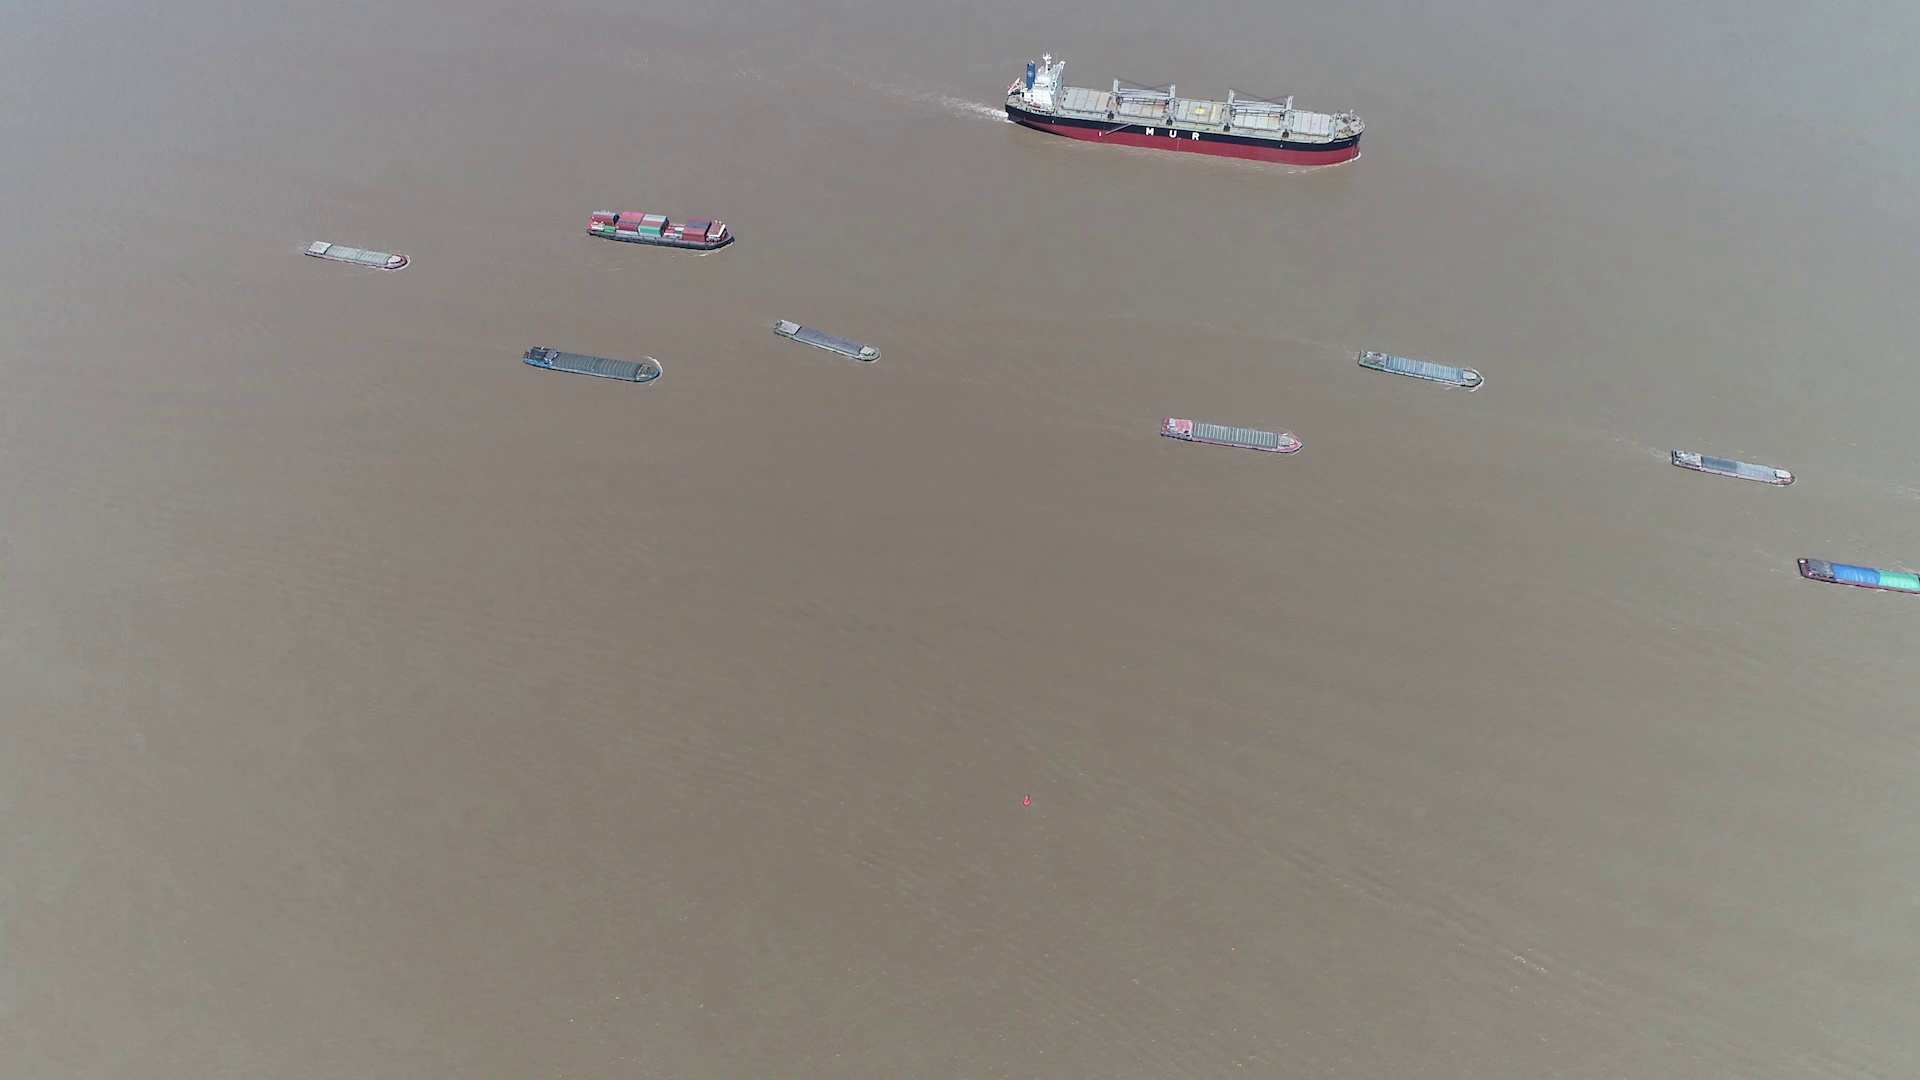ship: (1004, 61, 1364, 162), (585, 207, 738, 249), (1354, 347, 1484, 392), (1667, 444, 1796, 487), (1160, 415, 1302, 454), (525, 347, 663, 384), (1795, 554, 1919, 595), (773, 320, 882, 364), (302, 237, 409, 269)
